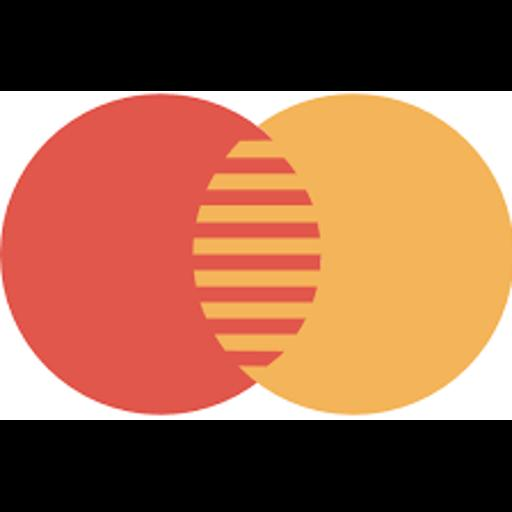Mastercard International: (0, 91, 512, 420)
